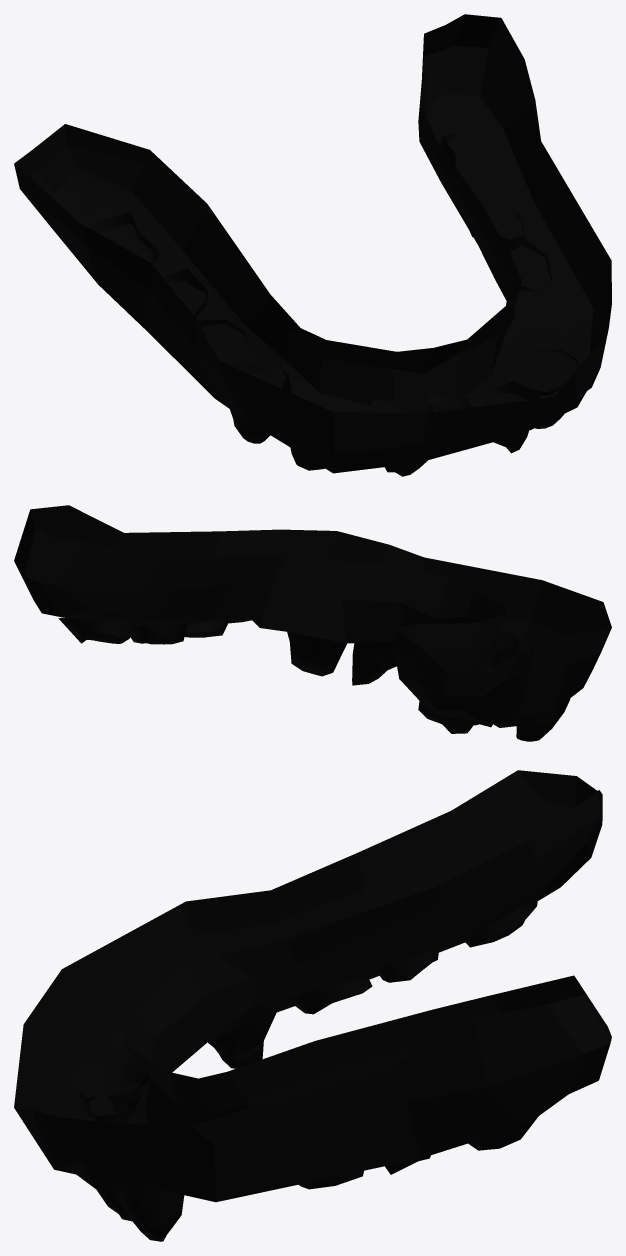
Rendered from Maxillary_Lowpoly.obj.
3 views of the same model, one above another, from view 1: azimuth 30°, elevation 25°; view 2: azimuth 150°, elevation 25°; view 3: azimuth 270°, elevation 25° (orthographic). The views are drawn at different scales.
Parts seen in each view (by area): view 1: Mayillary; view 2: Mayillary; view 3: Mayillary.
Part boxes in pixels (x1,y1,x2,y2): Mayillary: (14, 14, 611, 476); Mayillary: (14, 505, 611, 741); Mayillary: (14, 770, 611, 1241).
Bounding box in the file's own units: 10.47 × 5.42 × 9.38.
